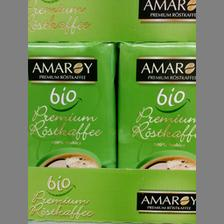Kaffee: (29, 41, 116, 167), (116, 41, 194, 168)
